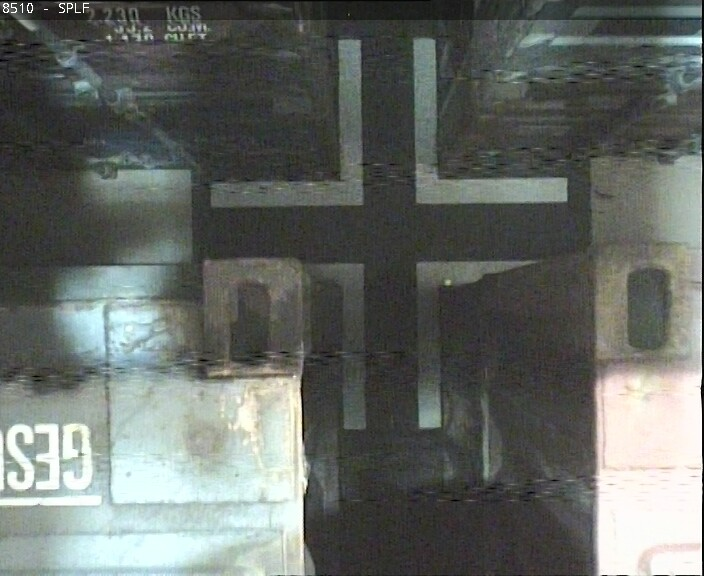groundmarker_1: (209, 37, 567, 208), (312, 263, 539, 431)
